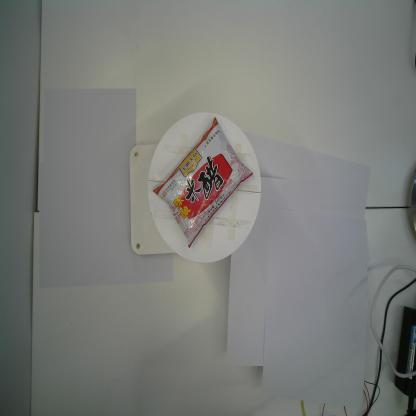Seasoner: (152, 116, 254, 248)
